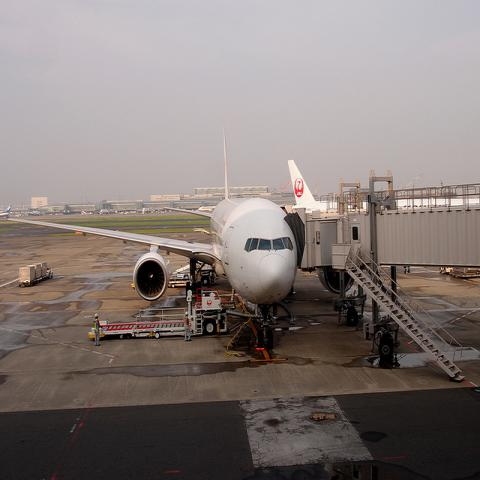truck: (18, 261, 54, 288)
